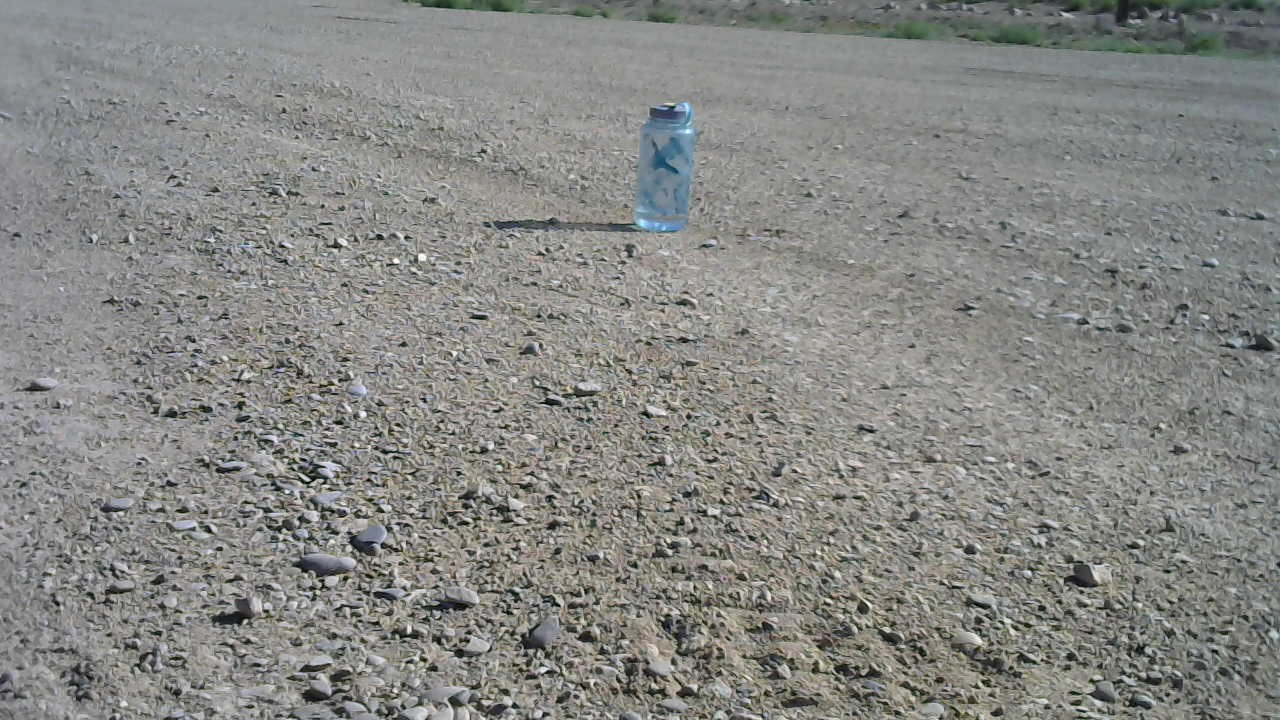bottle: (630, 95, 698, 235)
